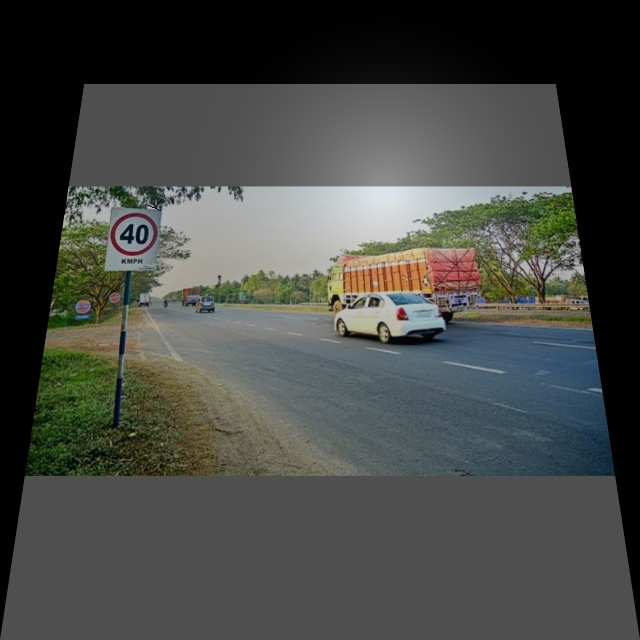Speed_Limit_40: (103, 205, 164, 274)
